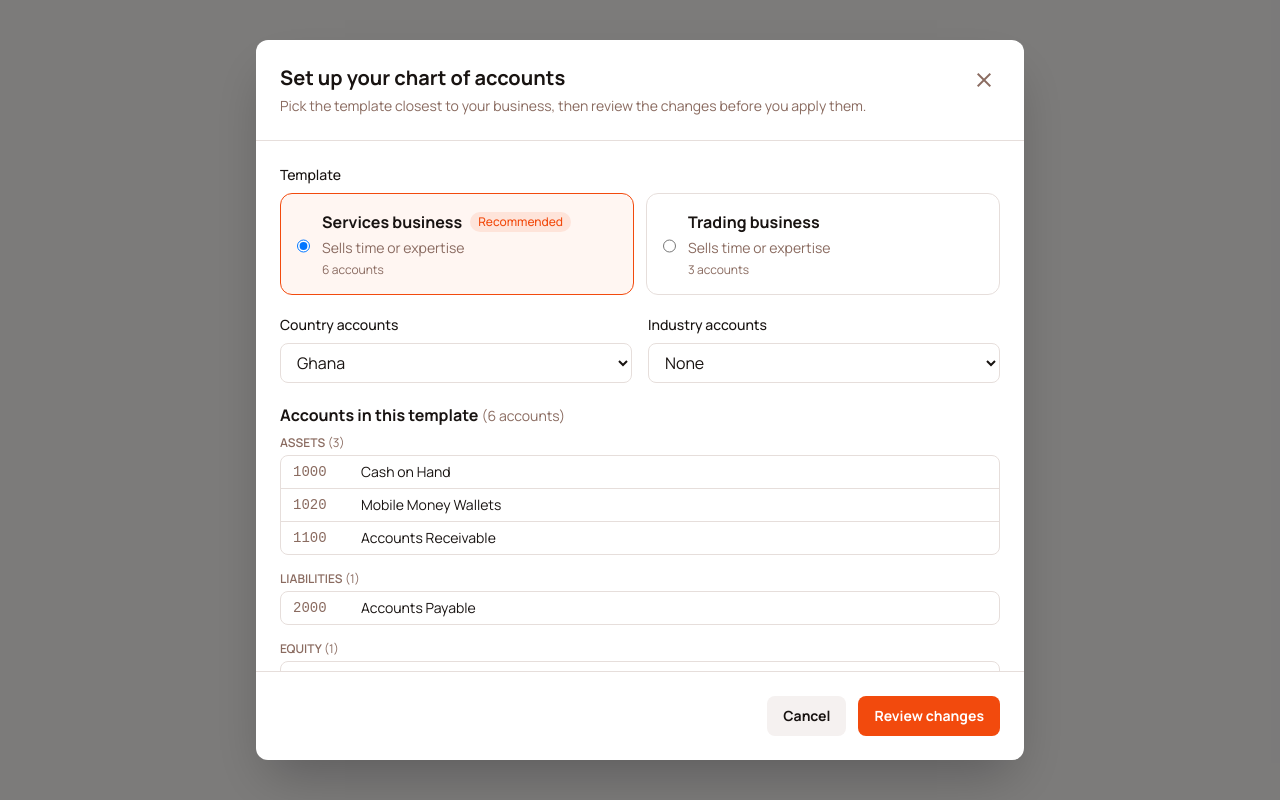
Test: CoaTemplatePicker › disables Apply when the dry run would create nothing (zero-change apply)
The image size is (1280, 800).
Expected: the element with test id "coa-template-preview" is shown, top-left (280, 435), bottom-right (1000, 671)
Click the button with test id "coa-template-review".
click(929, 716)  # box top-left (858, 696), bottom-right (1000, 736)
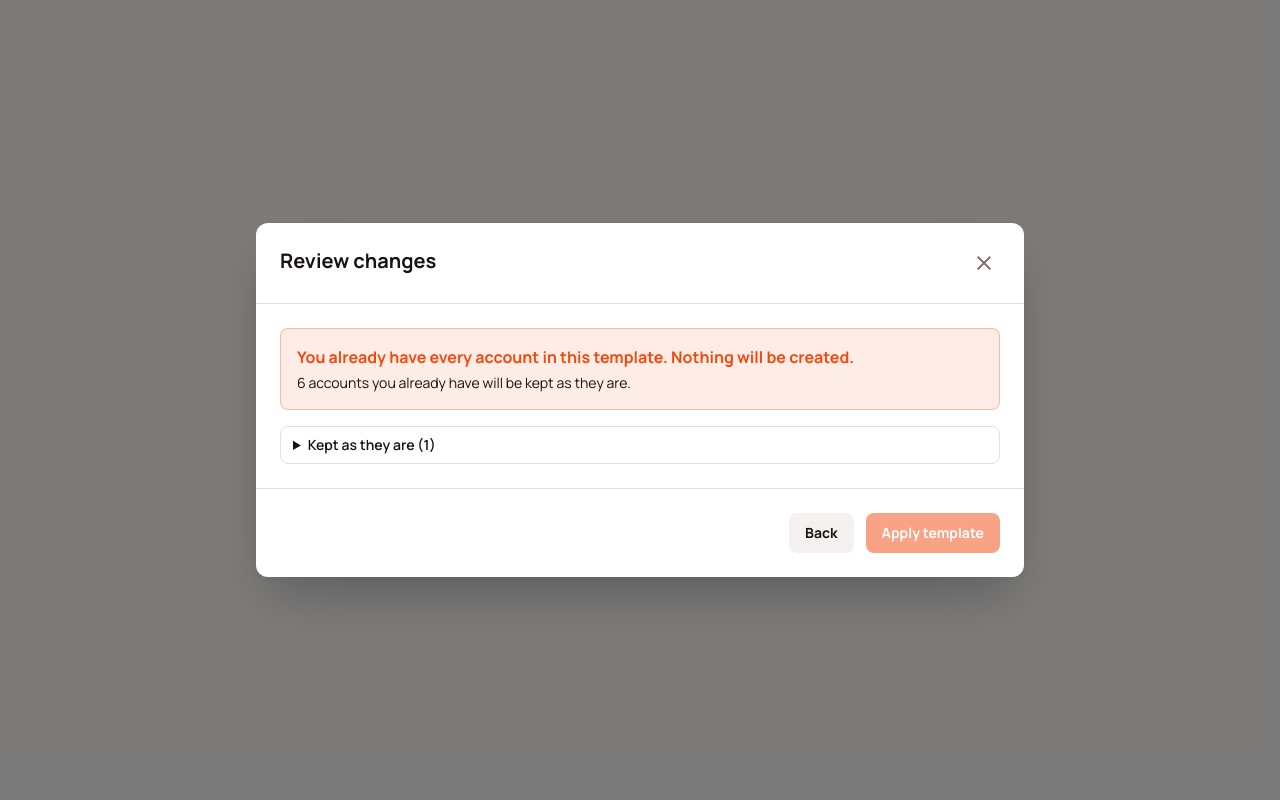
Now the element with test id "coa-template-summary" shows "You already have every account in this template. Nothing will be created.", box top-left (297, 346), bottom-right (854, 368)
Now the button with test id "coa-template-apply" is disabled, box top-left (866, 513), bottom-right (1000, 553)
